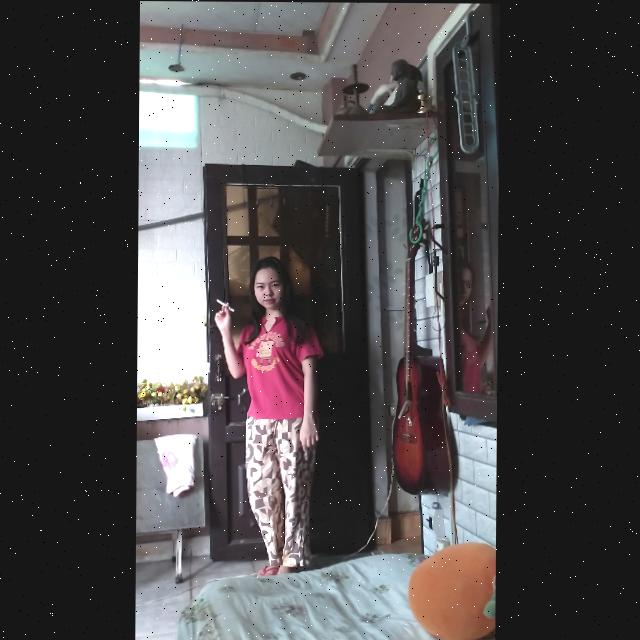cigarette: (216, 299, 234, 312)
